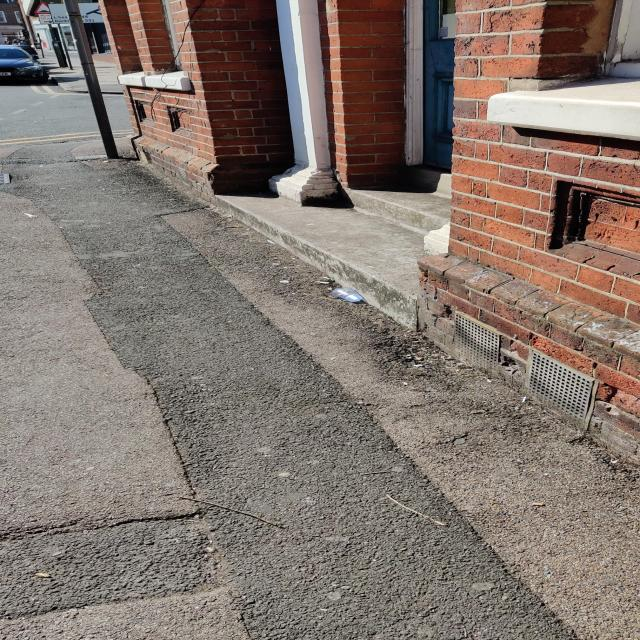litter: (329, 286, 365, 303)
